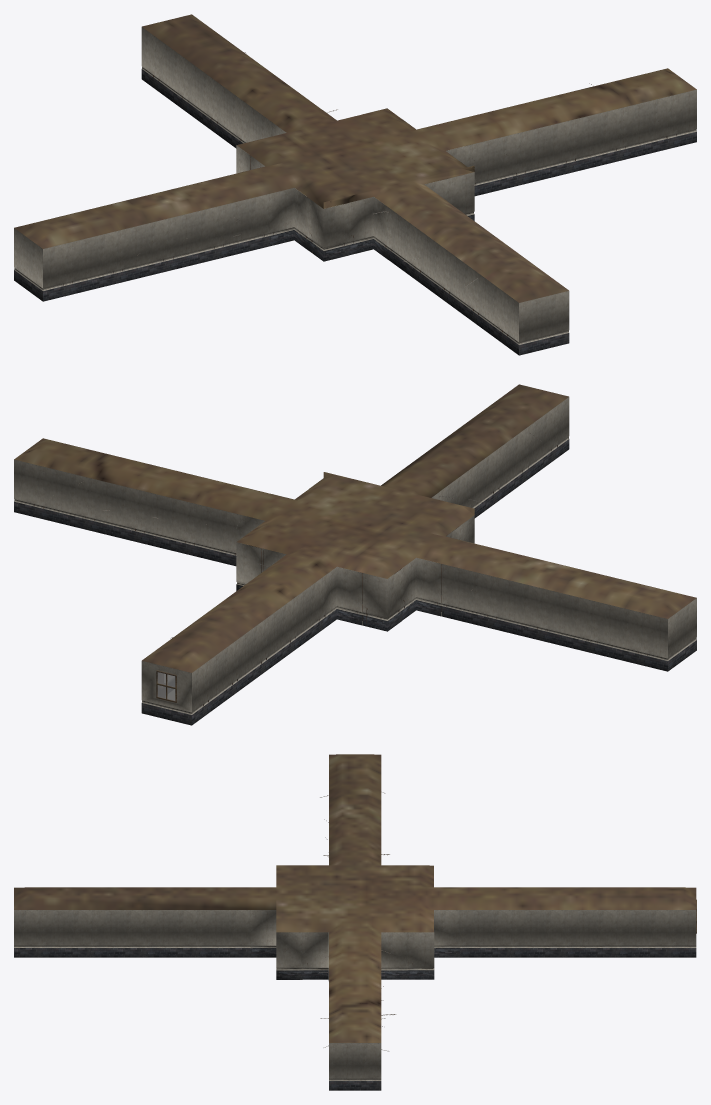
The model's file is HorrorPivotRoom.fbx.
3 renders of one model, top to bottom at view 1: azimuth 30°, elevation 25°; view 2: azimuth 150°, elevation 25°; view 3: azimuth 270°, elevation 25°, orthographic. The views are drawn at different scales.
Parts seen in each view (by area): view 1: Roof, Wall01.002, Wall01CornerOUT.004; view 2: Roof, Wall01.002, Wall01CornerOUT.004, Wall01Window.001; view 3: Roof, Wall01.002, Wall01CornerOUT.004.
Part boxes in pixels (x1,y1,x2,y2): Roof: (14,14,696,302); Wall01.002: (14,27,696,355); Wall01CornerOUT.004: (236,108,474,261); Roof: (14,384,696,672); Wall01.002: (14,397,696,725); Wall01CornerOUT.004: (236,479,474,631); Wall01Window.001: (141,661,192,725); Roof: (14,754,696,1042); Wall01.002: (14,910,696,1090); Wall01CornerOUT.004: (250,910,460,980).
Bounding box in the file's own units: 2600 × 225 × 2602.
